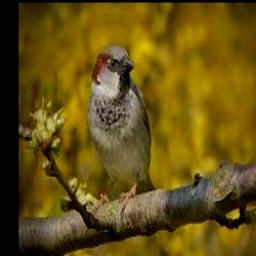Sparrow: (88, 44, 157, 203)
